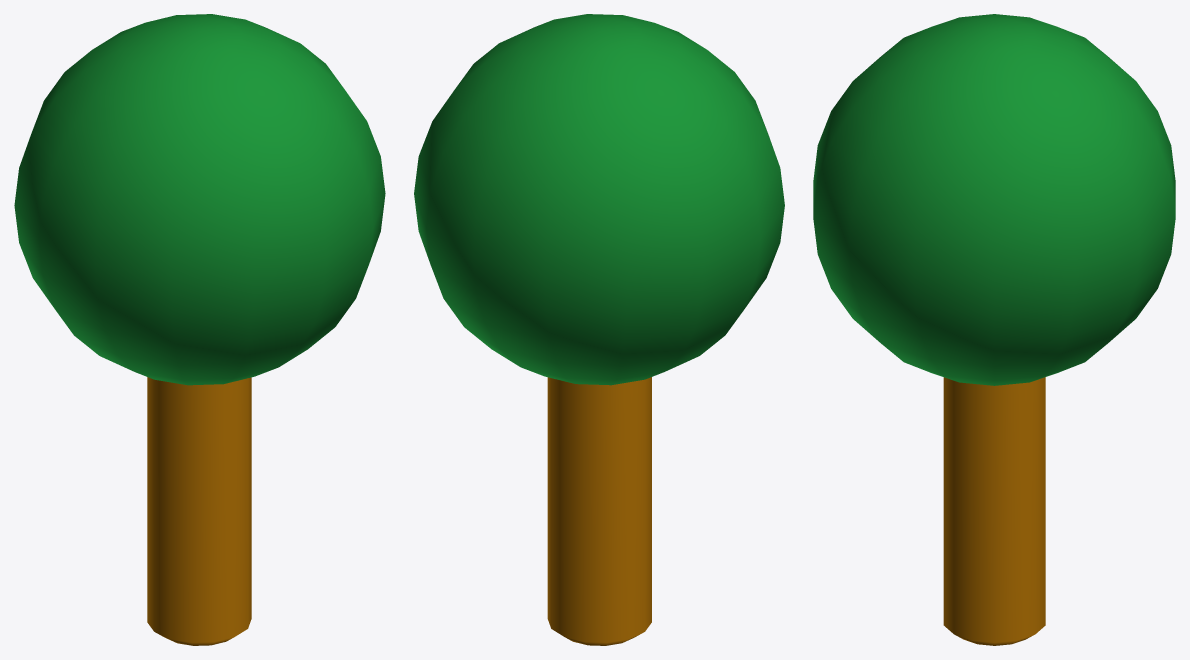
Rendered from TreeTallBig.fbx.
The picture shows the model from 3 angles, left to right: view 1: azimuth 30°, elevation 25°; view 2: azimuth 150°, elevation 25°; view 3: azimuth 270°, elevation 25°; orthographic projection.
Parts seen in each view (by area): view 1: polySurface1, polySurface5; view 2: polySurface1, polySurface5; view 3: polySurface1, polySurface5.
Boxes of the visible parts, box(x1,y1,x2,y2) form: polySurface1: box(14, 14, 385, 385); polySurface5: box(147, 377, 251, 645); polySurface1: box(414, 14, 784, 385); polySurface5: box(547, 377, 651, 645); polySurface1: box(813, 14, 1175, 385); polySurface5: box(943, 377, 1045, 645).
Bounding box in the file's own units: 7.36 × 13.09 × 7.18.
